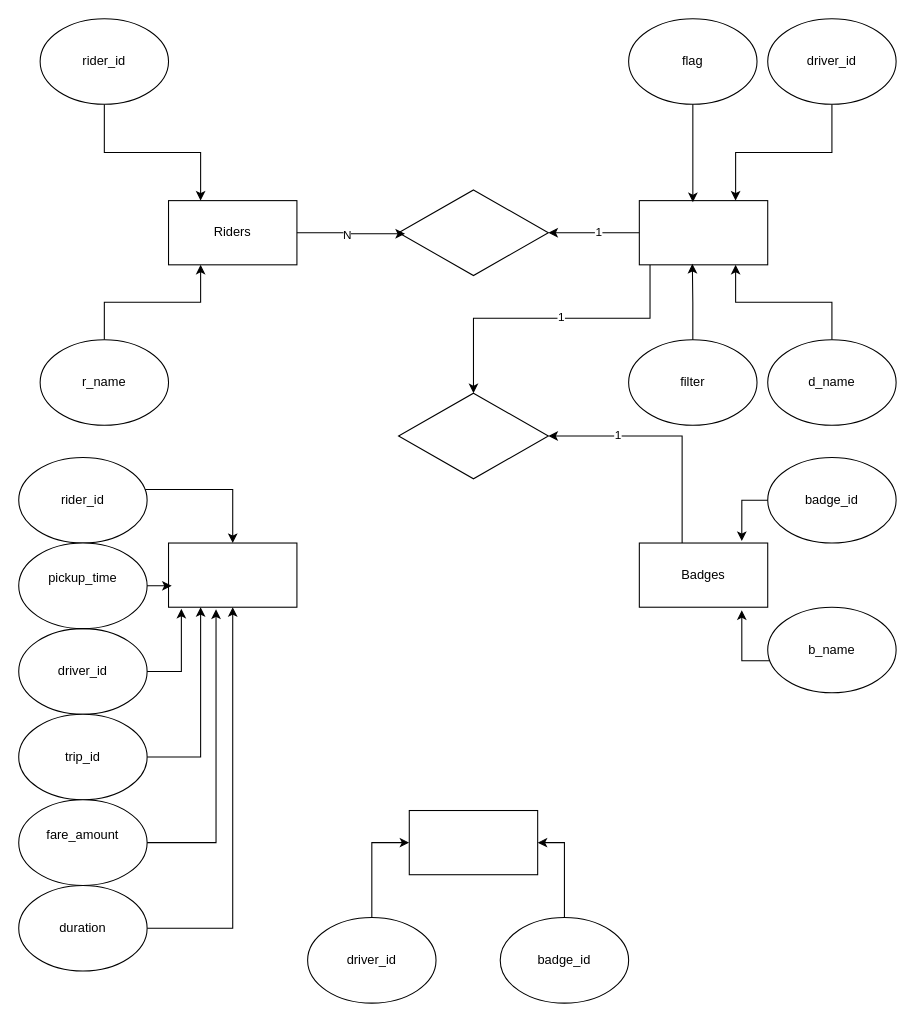
Some shapes in this 915 by 1022 pixel diagram are drawn without their labels. The shapes that lost their labels are listed below. From the top down, each one's centre as x and y in pixels, then its label:
[473,232]: drives
[703,232]: Drivers
[473,435]: classifies
[232,574]: Trips
[473,842]: Awards
